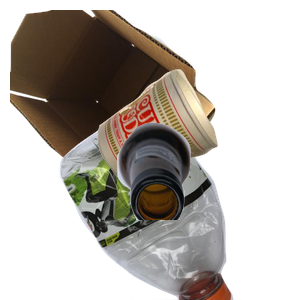cardboard: (10, 10, 218, 190)
glass: (115, 120, 300, 300)
plastic: (57, 120, 293, 300)
trash: (95, 67, 300, 238)
